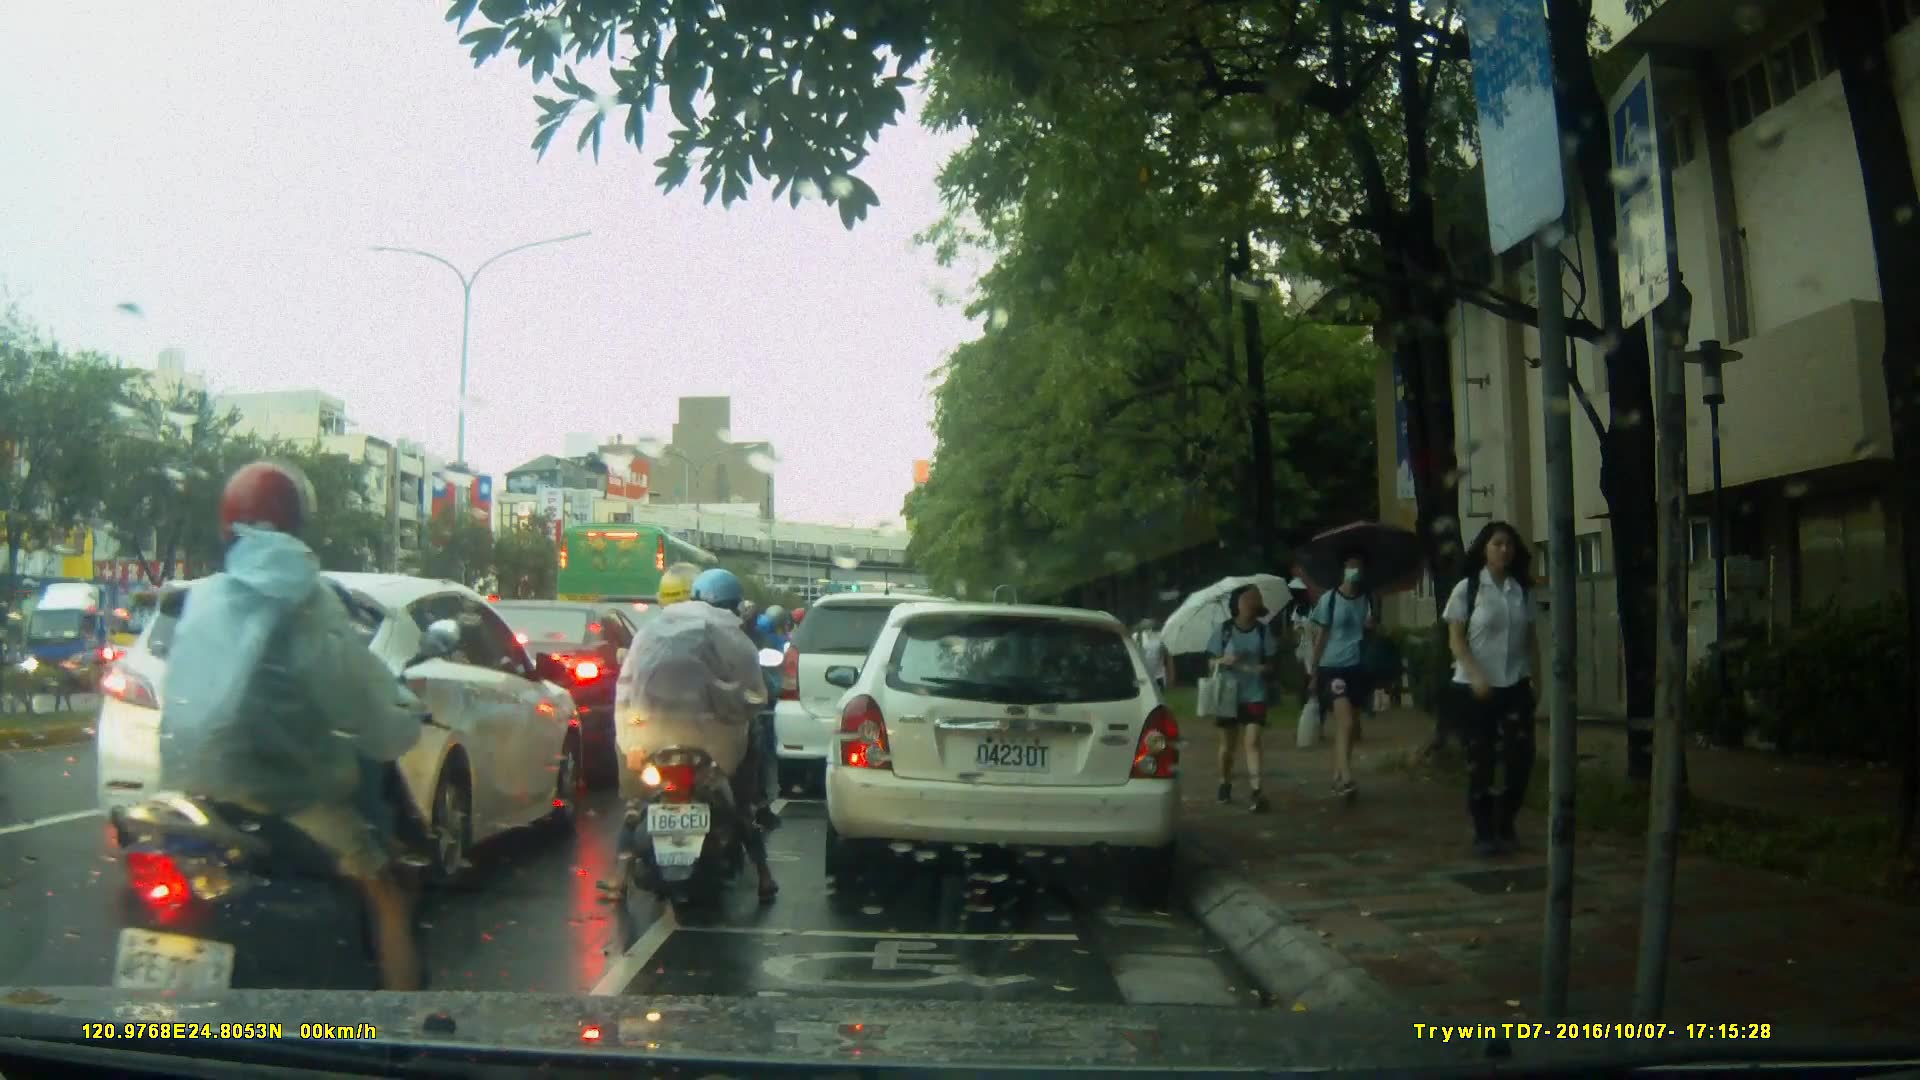pedestrian: (1433, 518, 1557, 867), (1298, 546, 1391, 810), (1199, 573, 1284, 818), (1131, 602, 1173, 744)
rider: (74, 458, 454, 1025), (592, 563, 781, 916), (653, 584, 761, 823)
vehicle: (93, 569, 587, 883), (822, 604, 1186, 882), (774, 595, 995, 802), (554, 519, 739, 666), (20, 576, 199, 697)
